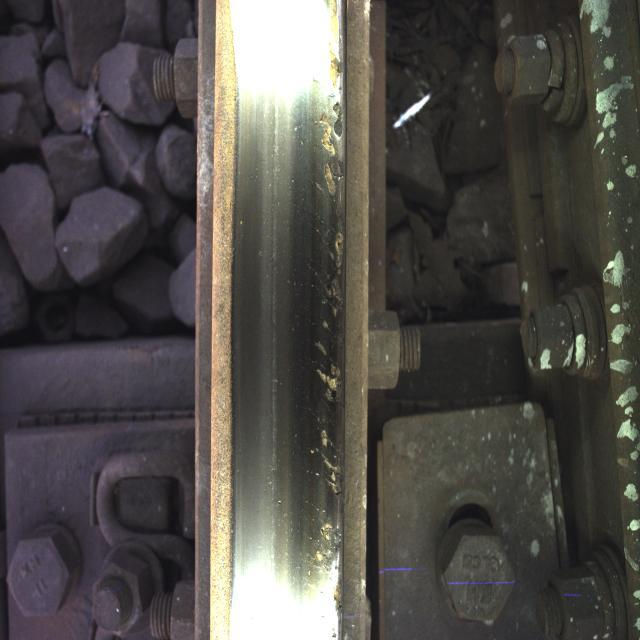scar: (289, 30, 350, 574)
